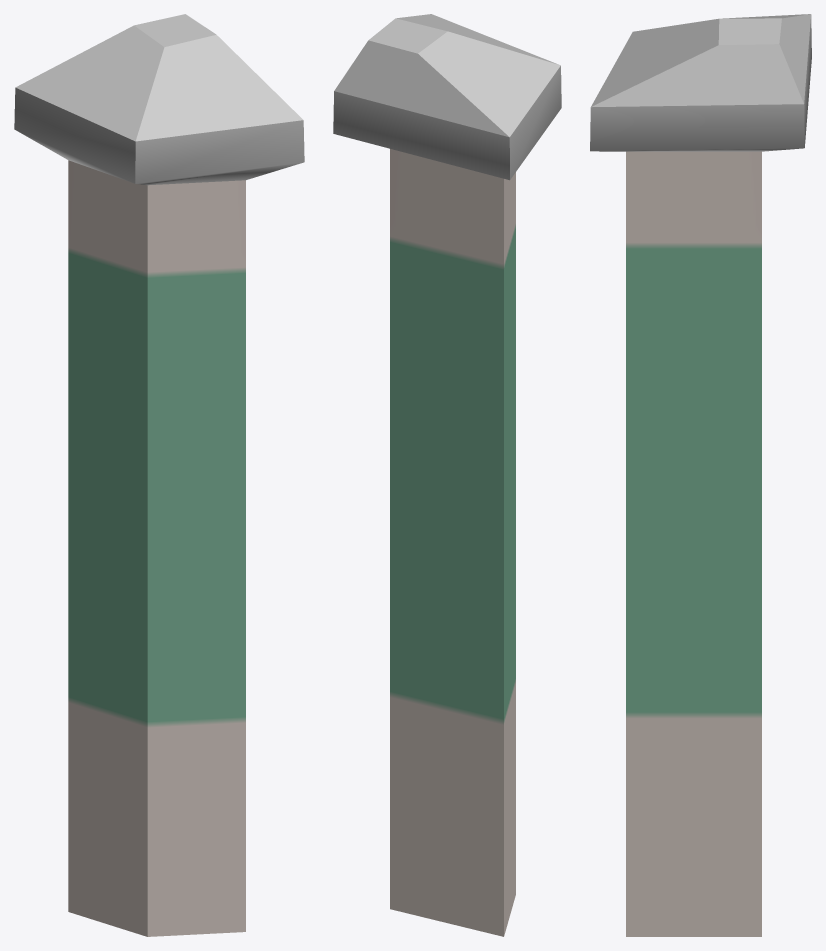
The model's file is SM_Bld_Roof_Base_Pillar_02.fbx.
The picture shows the model from 3 angles, left to right: view 1: azimuth 30°, elevation 25°; view 2: azimuth 150°, elevation 25°; view 3: azimuth 270°, elevation 25°; orthographic projection. The views are drawn at different scales.
Parts seen in each view (by area): view 1: SM_Bld_Roof_Base_Pillar_02; view 2: SM_Bld_Roof_Base_Pillar_02; view 3: SM_Bld_Roof_Base_Pillar_02.
Boxes of the visible parts, box(x1,y1,x2,y2) form: SM_Bld_Roof_Base_Pillar_02: box(14, 14, 304, 936); SM_Bld_Roof_Base_Pillar_02: box(333, 14, 561, 936); SM_Bld_Roof_Base_Pillar_02: box(590, 14, 811, 936).
Size of the model in its own units: 18.37 by 83.71 by 18.37.
